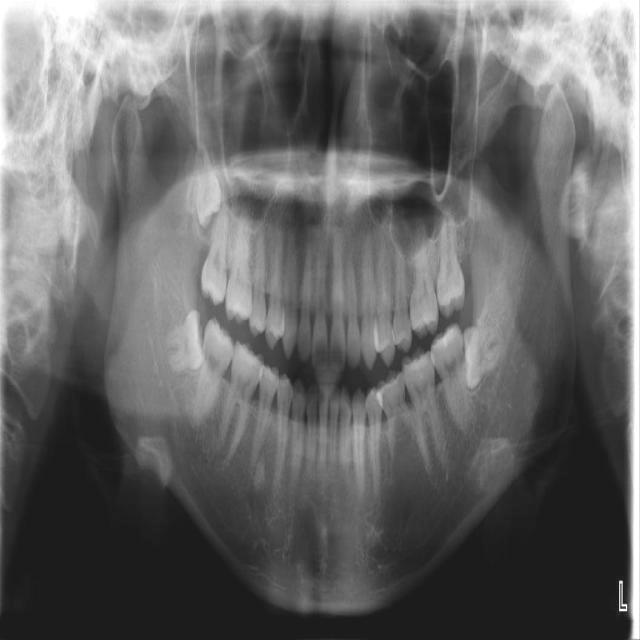impacted tooth: (160, 309, 204, 374), (189, 137, 221, 225), (463, 324, 506, 388)
